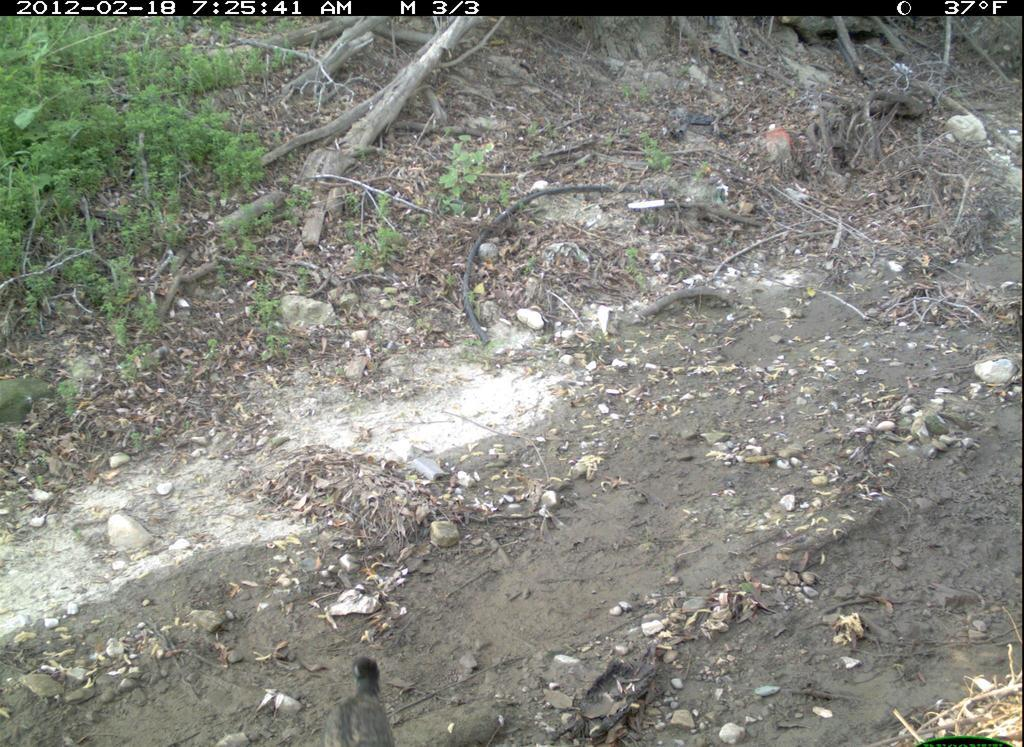cat: (311, 647, 403, 747)
